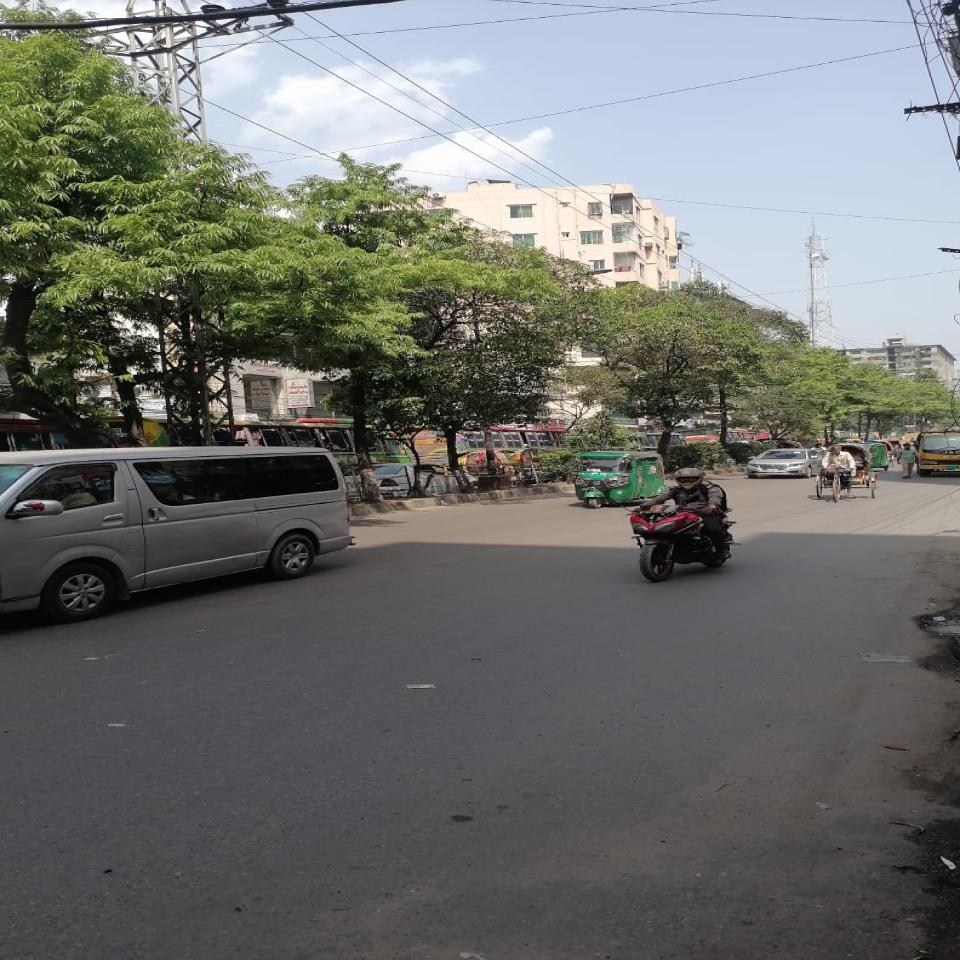person: (898, 443, 922, 480)
